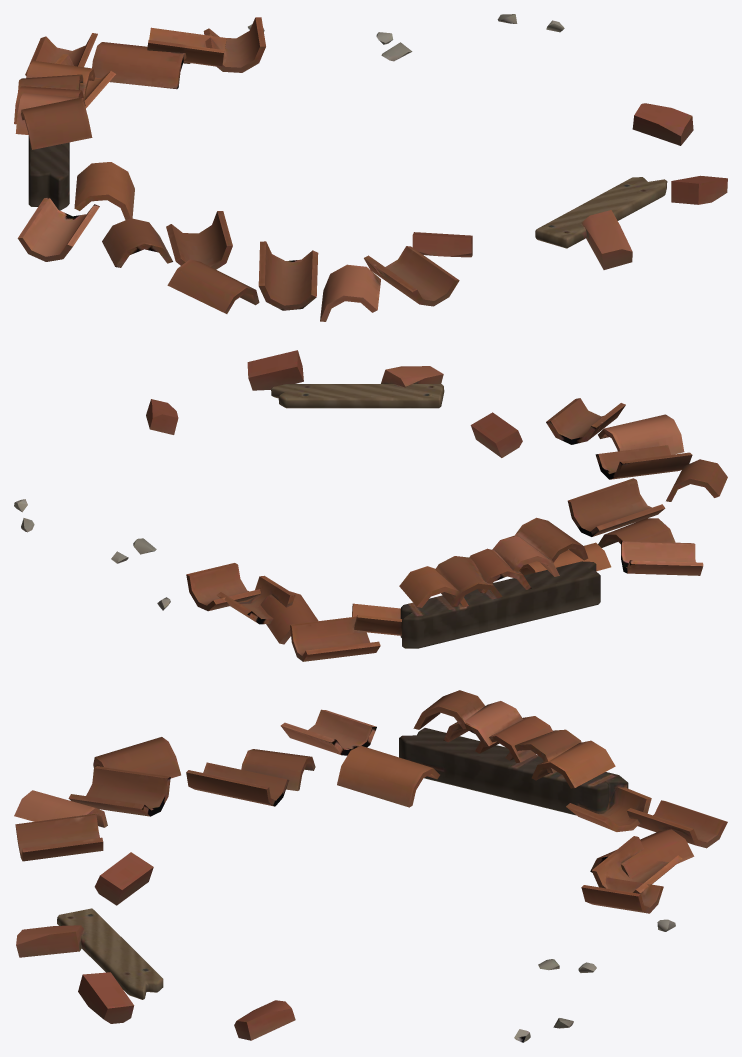
File: rough-town-3.glb
3 views of the same model, one above another, from view 1: azimuth 30°, elevation 25°; view 2: azimuth 150°, elevation 25°; view 3: azimuth 270°, elevation 25° (orthographic). The views are drawn at different scales.
Visible parts, largest first — view 1: rough-town-3; view 2: rough-town-3; view 3: rough-town-3.
Part boxes in pixels (x1,y1,x2,y2): rough-town-3: [14, 14, 727, 321]; rough-town-3: [14, 350, 727, 661]; rough-town-3: [14, 690, 727, 1042].
Size of the model in its own units: 1.81 by 0.2469 by 1.75.
Materials: 1 (1 with a texture image).
